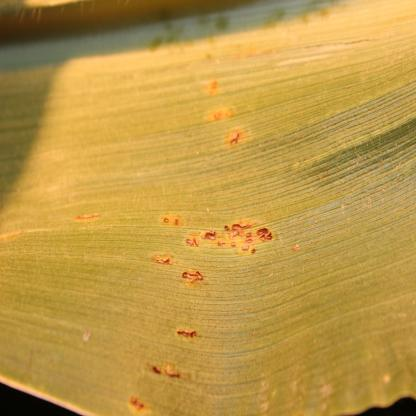corn rust leaf: (47, 32, 380, 416)
